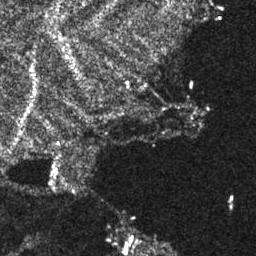ship: (121, 235, 134, 256), (228, 193, 234, 211), (187, 78, 194, 90), (216, 15, 222, 22), (217, 5, 224, 10)
